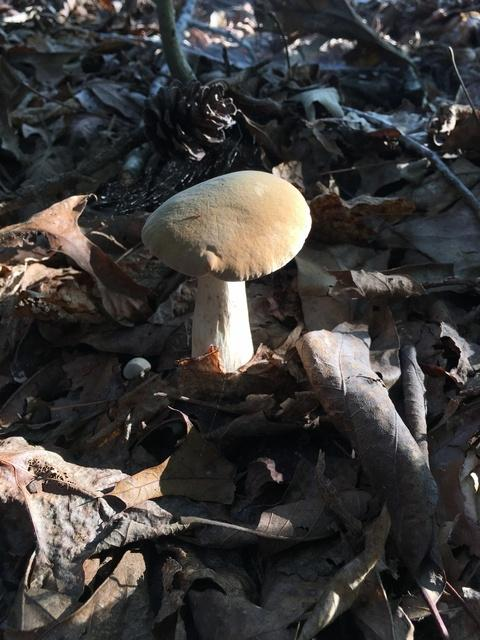edible_mushroom: (139, 168, 312, 374)
